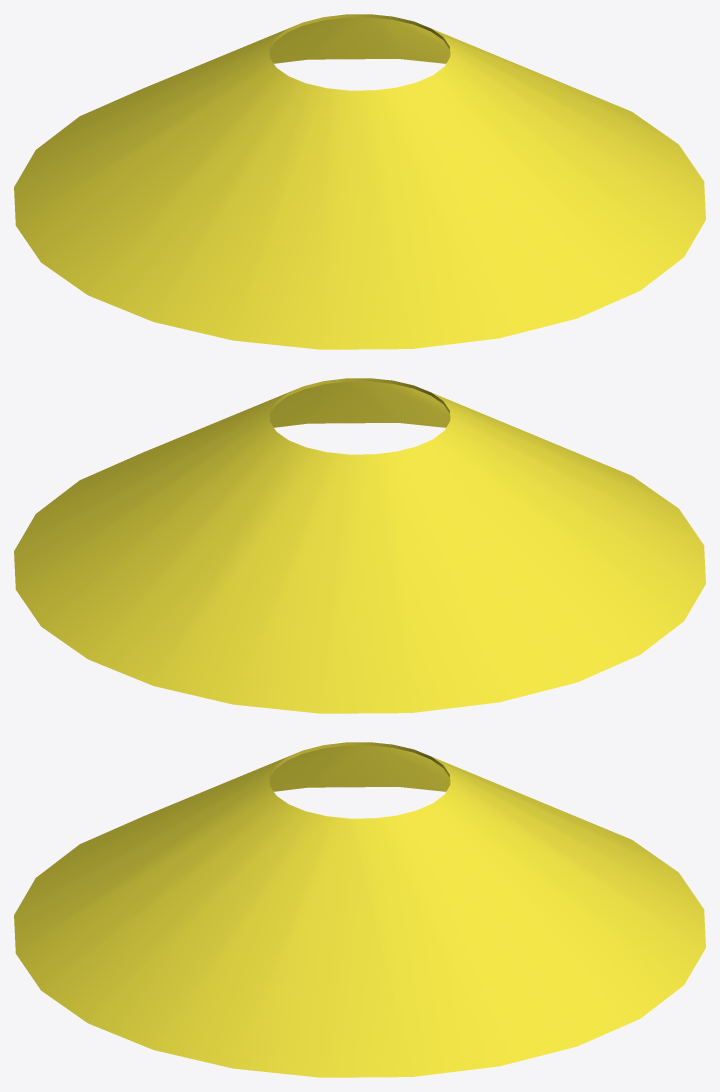
File: cone_working.dae
3 renders of one model, top to bottom at view 1: azimuth 30°, elevation 25°; view 2: azimuth 150°, elevation 25°; view 3: azimuth 270°, elevation 25°, orthographic.
Parts seen in each view (by area): view 1: SketchUp; view 2: SketchUp; view 3: SketchUp.
Boxes of the visible parts, x1,y1,x2,y2 form: SketchUp: (14,14,705,349); SketchUp: (14,378,705,713); SketchUp: (14,742,705,1077).
Size of the model in its own units: 7.51 by 7.51 by 1.81.
1 material, 1 textured.
